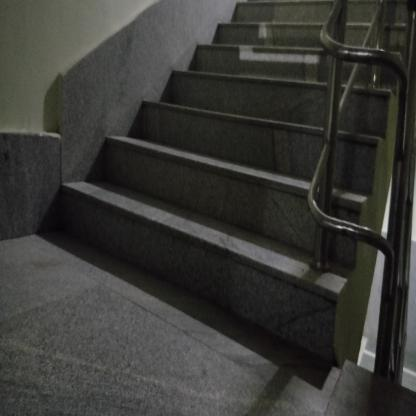stairs: (172, 64, 307, 341)
